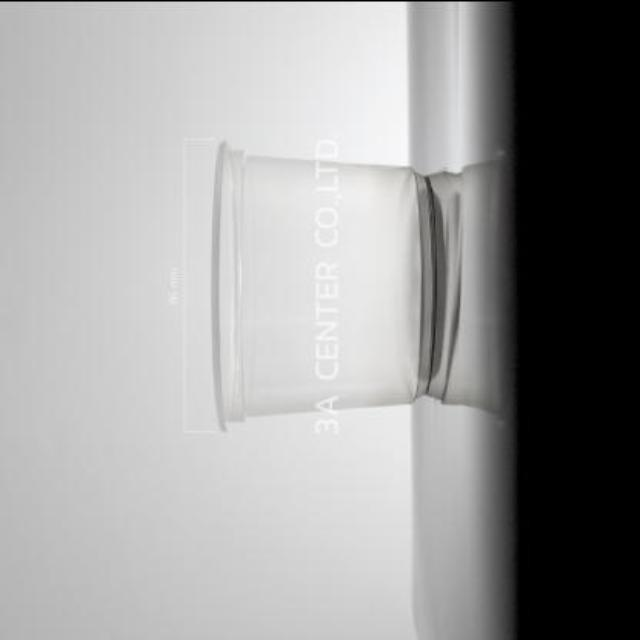plastic_box: (210, 144, 440, 428)
